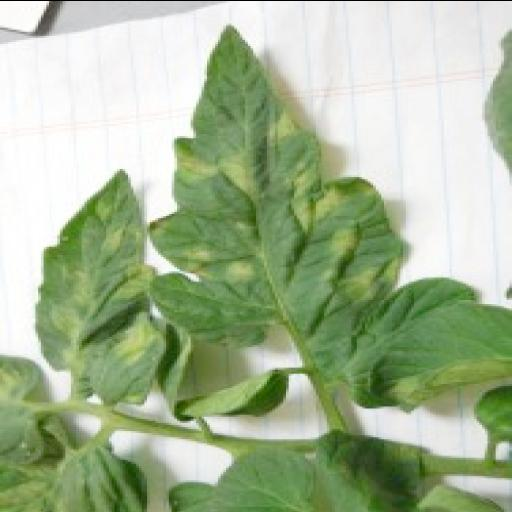Leaf Mold: (150, 20, 408, 348), (37, 168, 167, 406)
